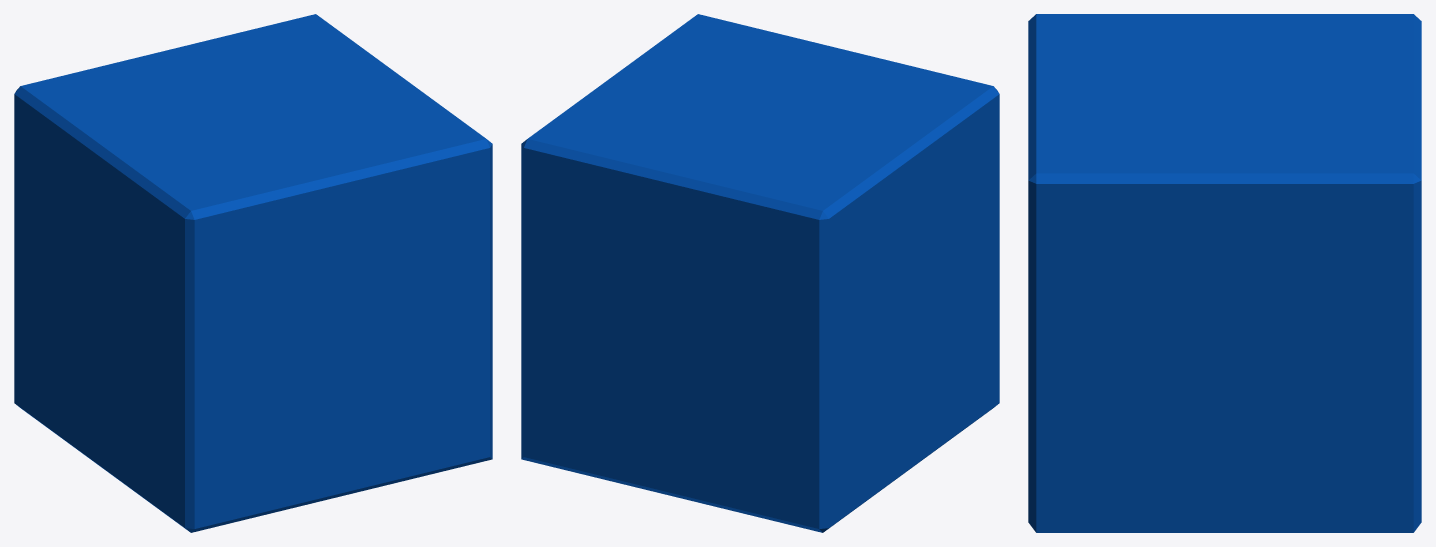
Rendered from MOb_LightBox_001_Blue.fbx.
3 views of the same model, side by side, from view 1: azimuth 30°, elevation 25°; view 2: azimuth 150°, elevation 25°; view 3: azimuth 270°, elevation 25° (orthographic). The views are drawn at different scales.
Visible parts, largest first — view 1: MOb_Box_001_Blue; view 2: MOb_Box_001_Blue; view 3: MOb_Box_001_Blue.
Part boxes in pixels (x1,y1,x2,y2): MOb_Box_001_Blue: [14, 14, 492, 532]; MOb_Box_001_Blue: [521, 14, 999, 532]; MOb_Box_001_Blue: [1028, 14, 1421, 532].
Bounding box in the file's own units: 0.5 × 0.5 × 0.5.
